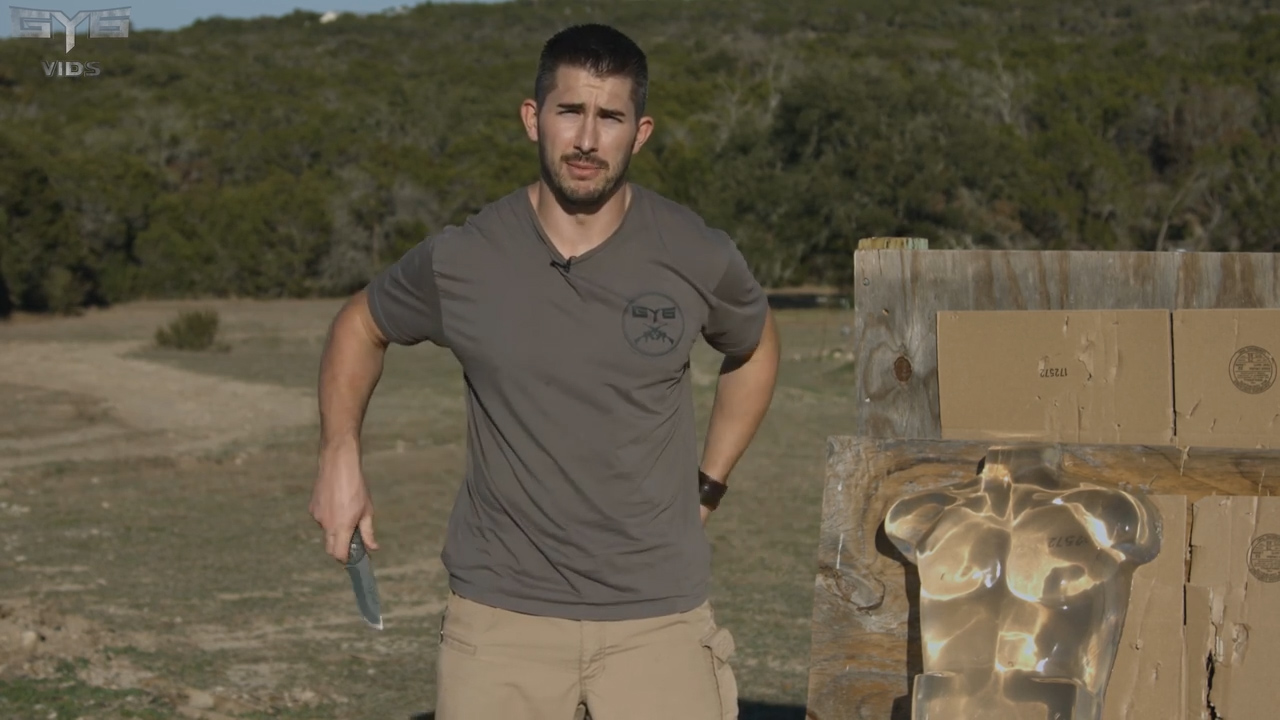knife: (309, 489, 396, 646)
